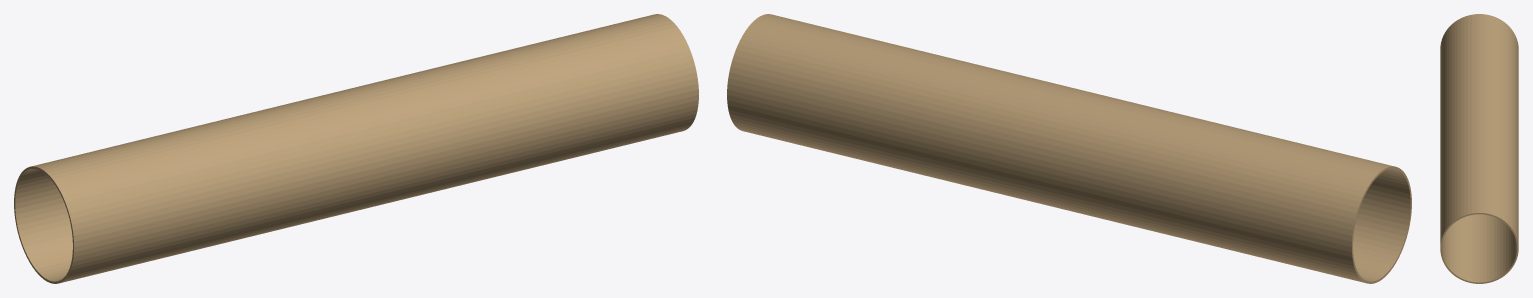
Rendered from paper.glb.
The picture shows the model from 3 angles, left to right: view 1: azimuth 30°, elevation 25°; view 2: azimuth 150°, elevation 25°; view 3: azimuth 270°, elevation 25°; orthographic projection. The views are drawn at different scales.
Parts seen in each view (by area): view 1: FinishedHollowTube; view 2: FinishedHollowTube; view 3: FinishedHollowTube.
Boxes of the visible parts, x1,y1,x2,y2 form: FinishedHollowTube: [14, 14, 698, 283]; FinishedHollowTube: [727, 14, 1411, 283]; FinishedHollowTube: [1440, 14, 1518, 283].
Bounding box in the file's own units: 0.6 × 0.1 × 0.1.
